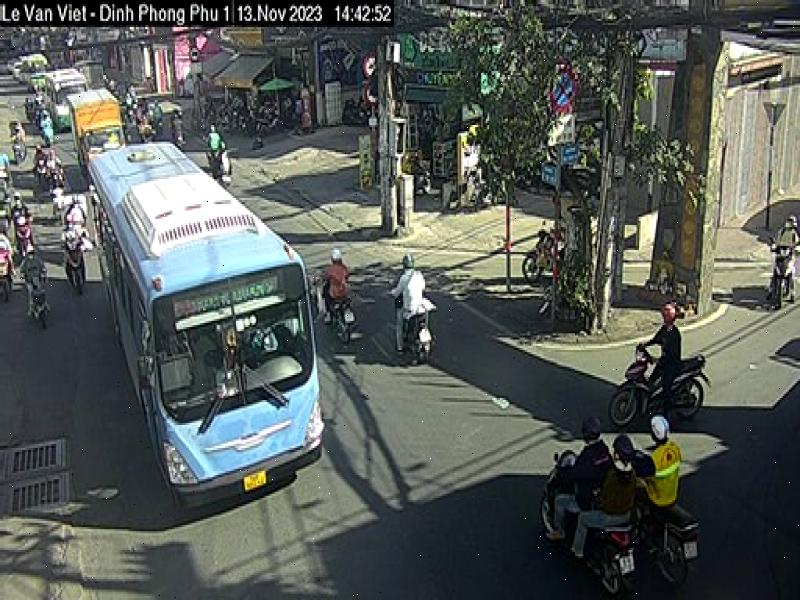bus: (87, 141, 323, 504)
